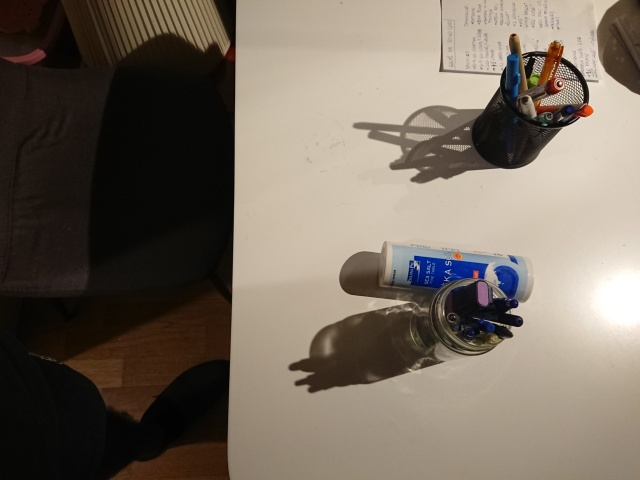Solana Pag Fine Sea Salt 250g: (375, 237, 537, 306)
